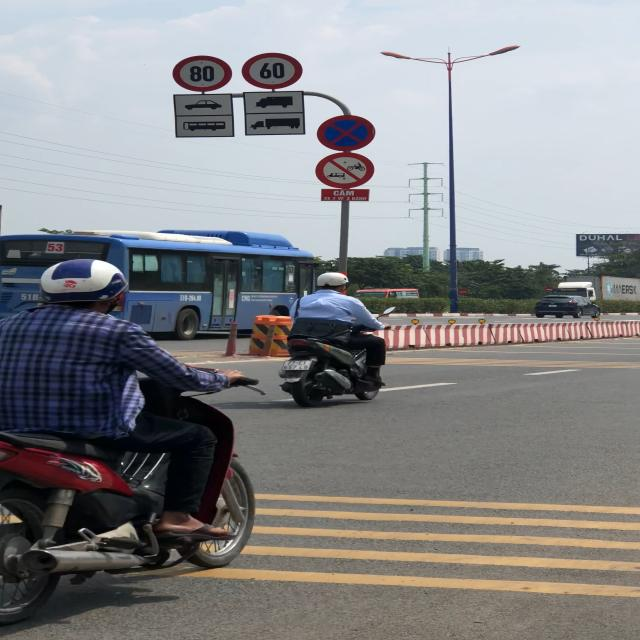Bien bao cam dung xe va do xe: (316, 110, 377, 151)
Bien bao toc do toi da cho phep: (172, 54, 234, 92), (242, 52, 302, 90)
